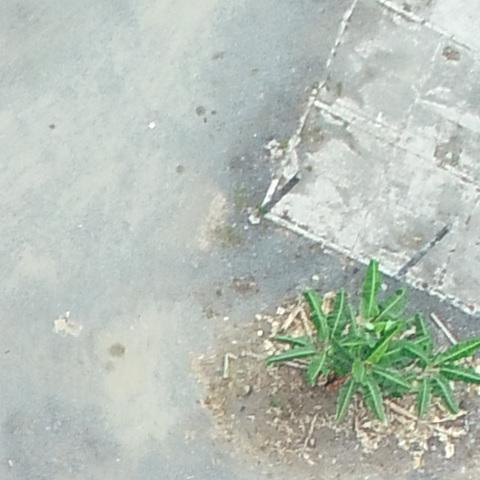Banana-plant: (265, 288, 377, 387), (386, 315, 479, 420), (325, 328, 413, 432), (328, 257, 407, 363)
